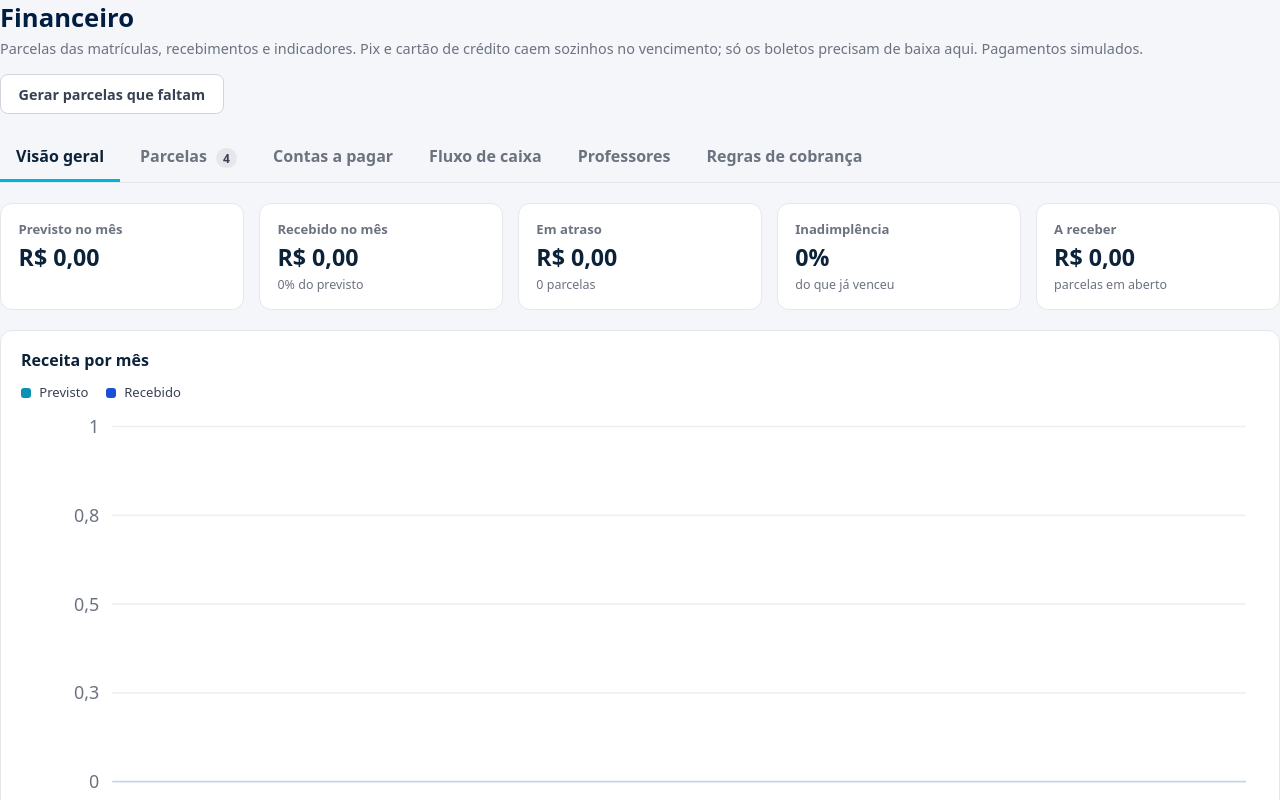
Test: baixa com multa, juros e desconto › mostra quanto custa hoje e quanto foi pago
Expected: the text "Previsto no mês" is shown, [19,220,122,238]
Click the tab "Parcelas 4". click: (188, 158)
box: [124,134,253,182]
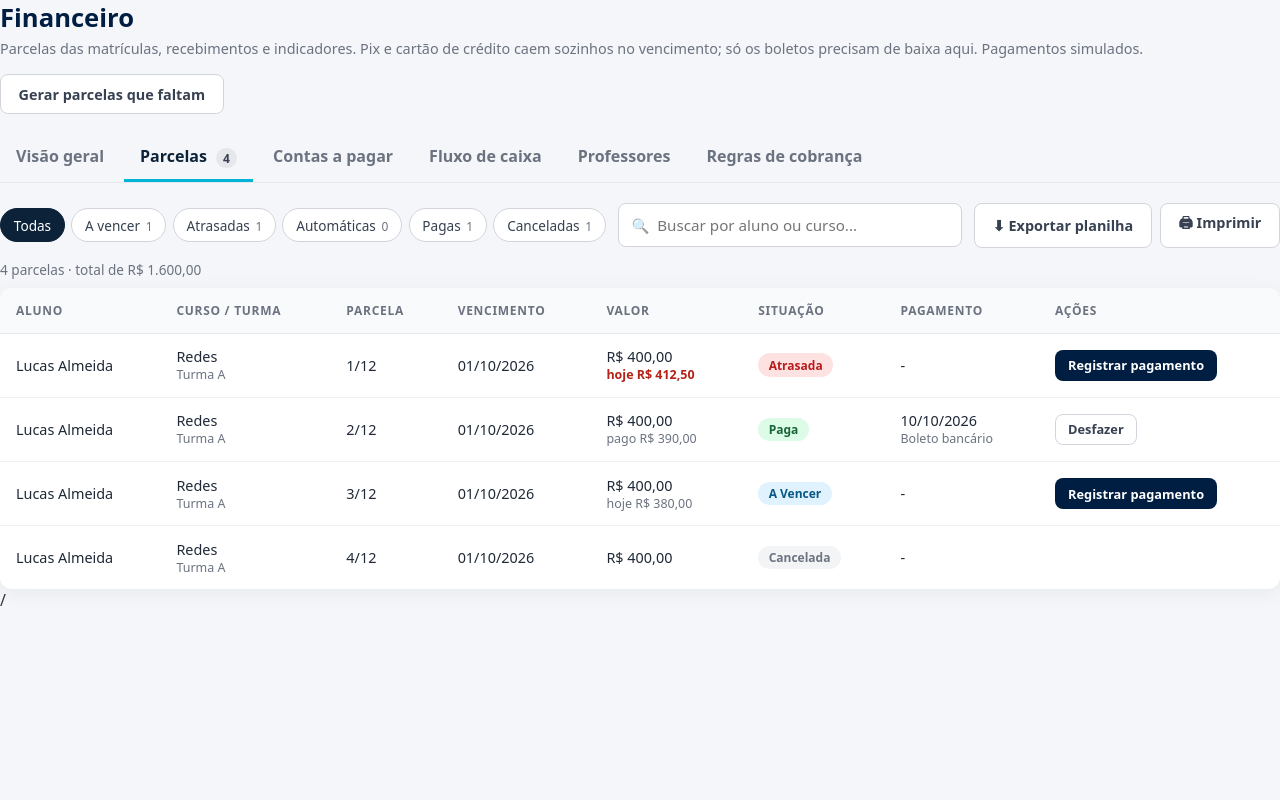
Expected: the text "pago R$ 390,00" is shown, [606,430,697,447]
